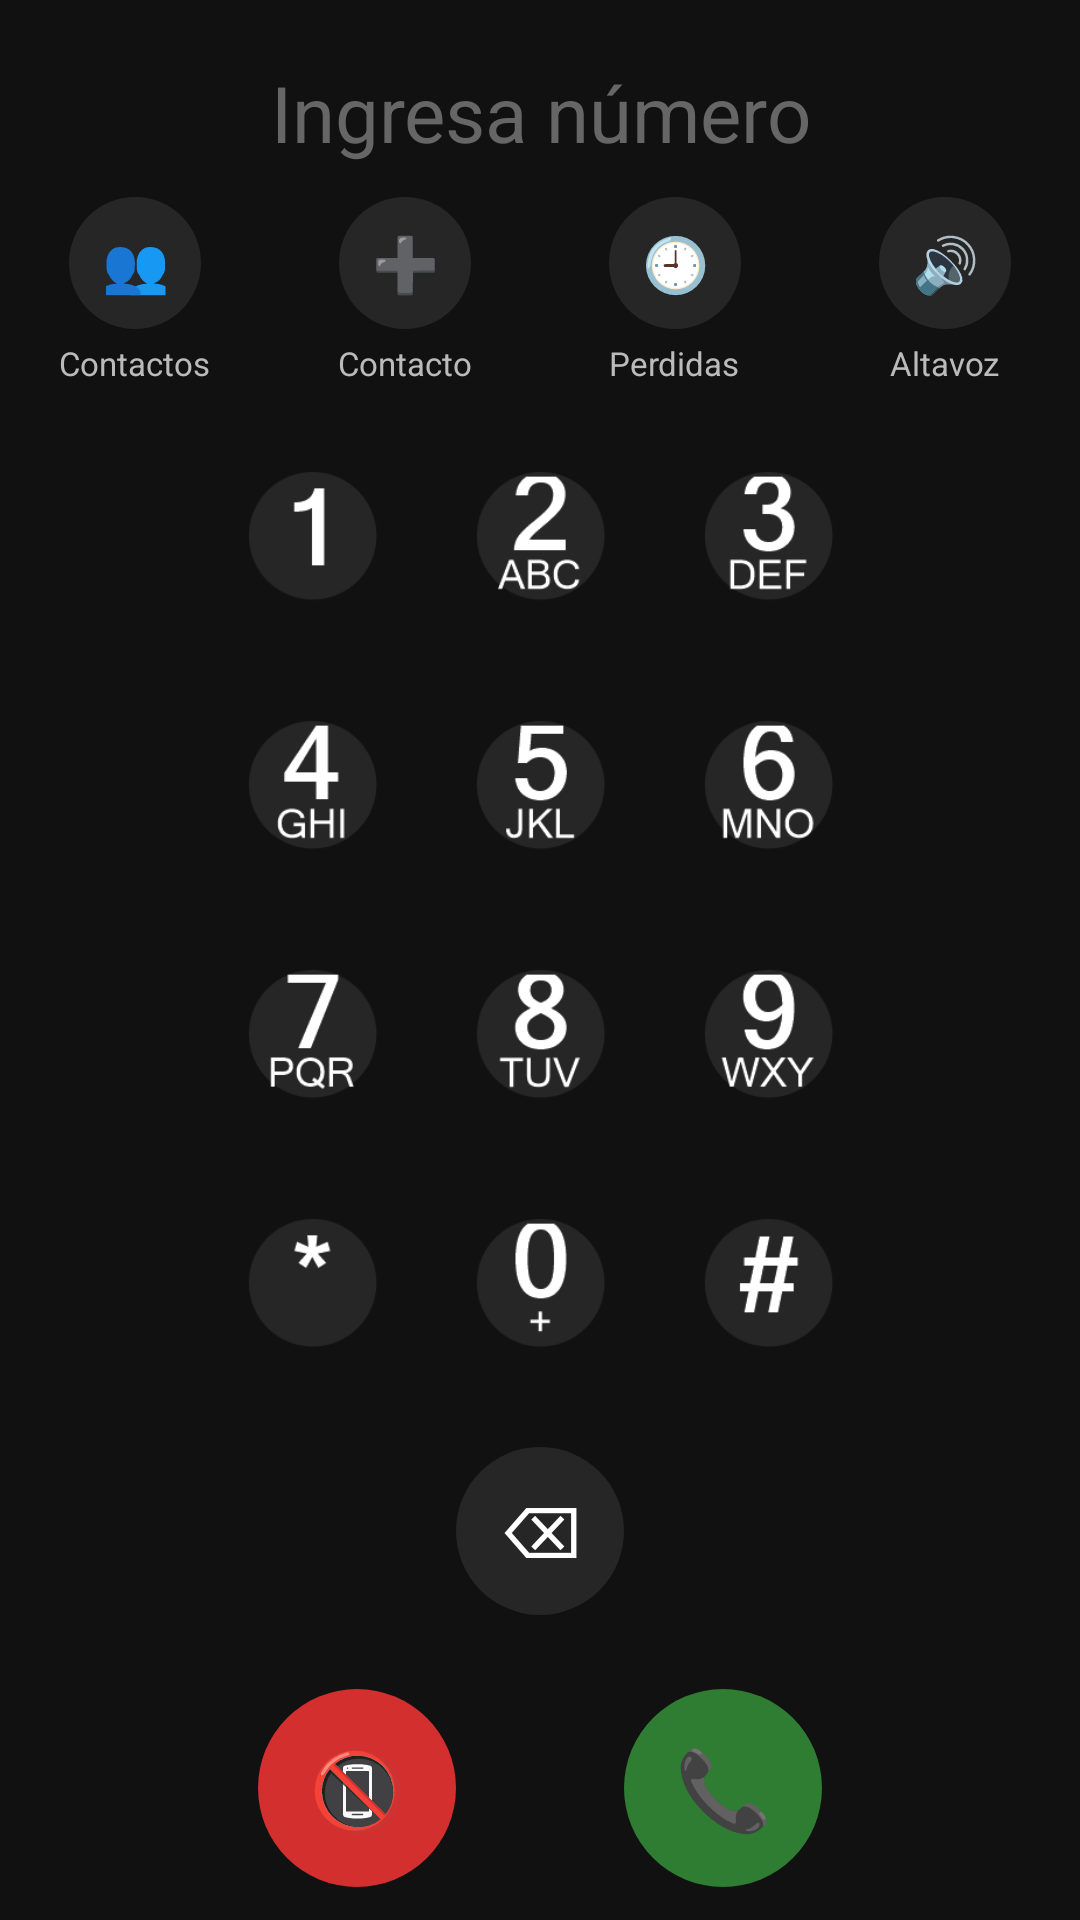

Where to tap for icons on this 1080 x 1920 app screen, as point (x, y):
tecla asterisco: point (312, 1252)
tecla numeral: point (769, 1274)
